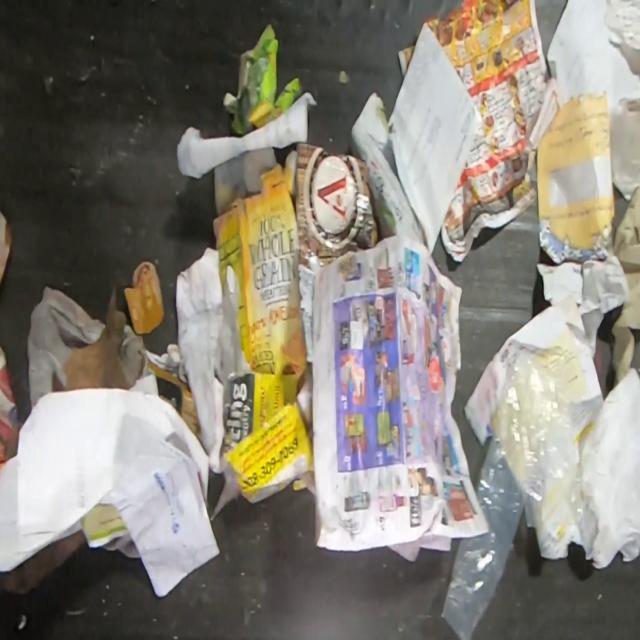cardboard: (213, 147, 308, 380), (283, 142, 378, 268), (122, 262, 165, 336)
soft_plastic: (439, 348, 584, 640)
